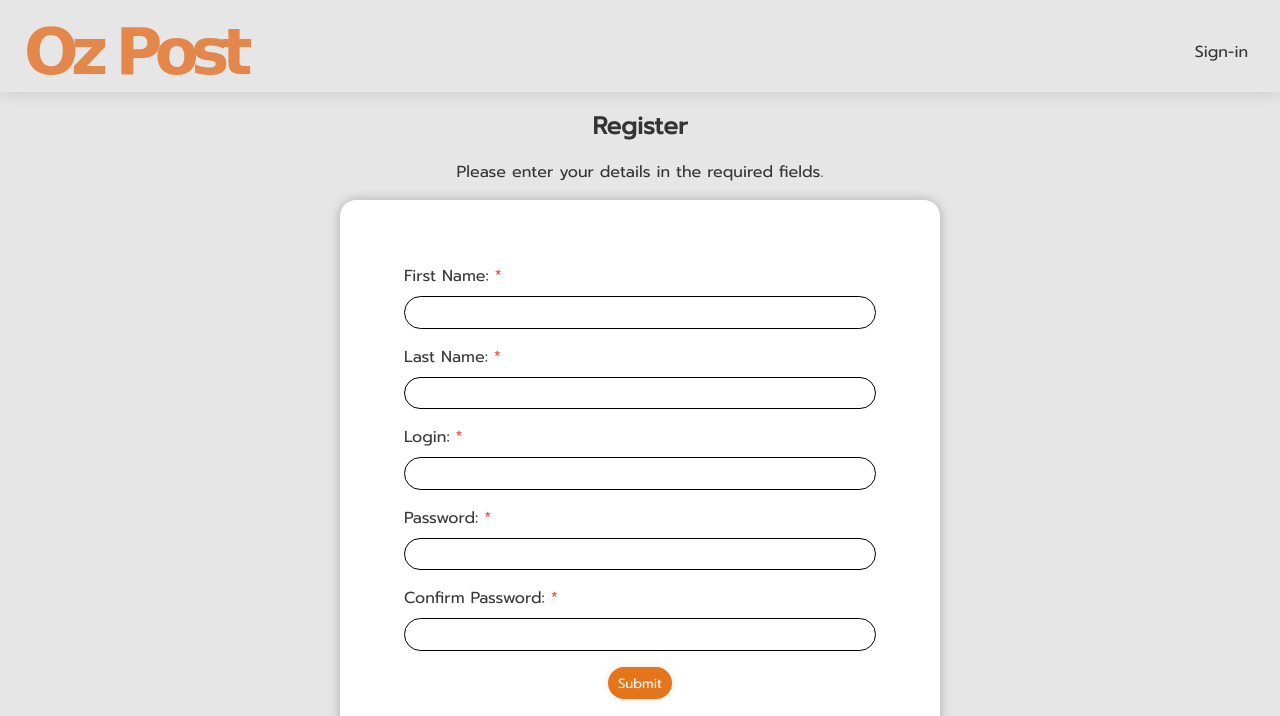
Test: Oz Post Register Page › should display all errors for unfilled mandatory inputs
Expected: the heading "Register" is shown, [592,108,688,144]
Click the button with id "submit". click: (640, 683)
box: [608,667,671,699]
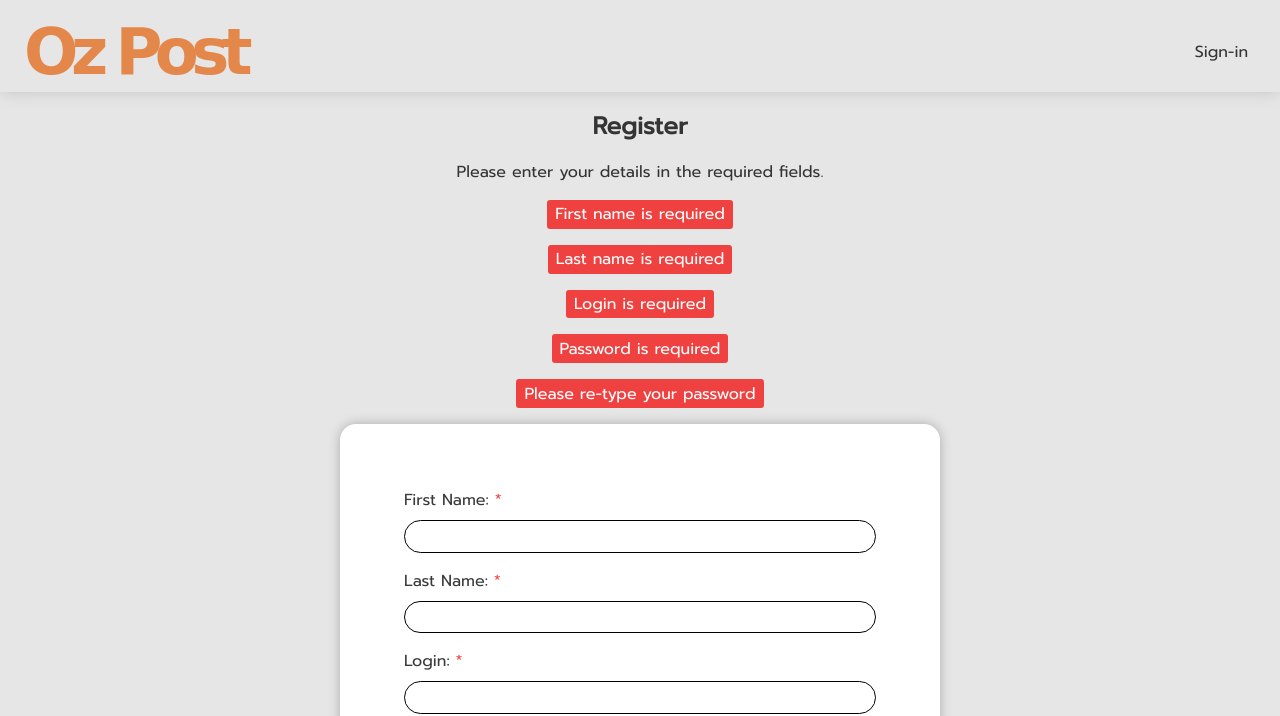
Expected: the text "First name is required" is shown, [547,200,733,229]
Expected: the text "Last name is required" is shown, [548,245,732,274]
Expected: the text "Login is required" is shown, [566,290,714,318]
